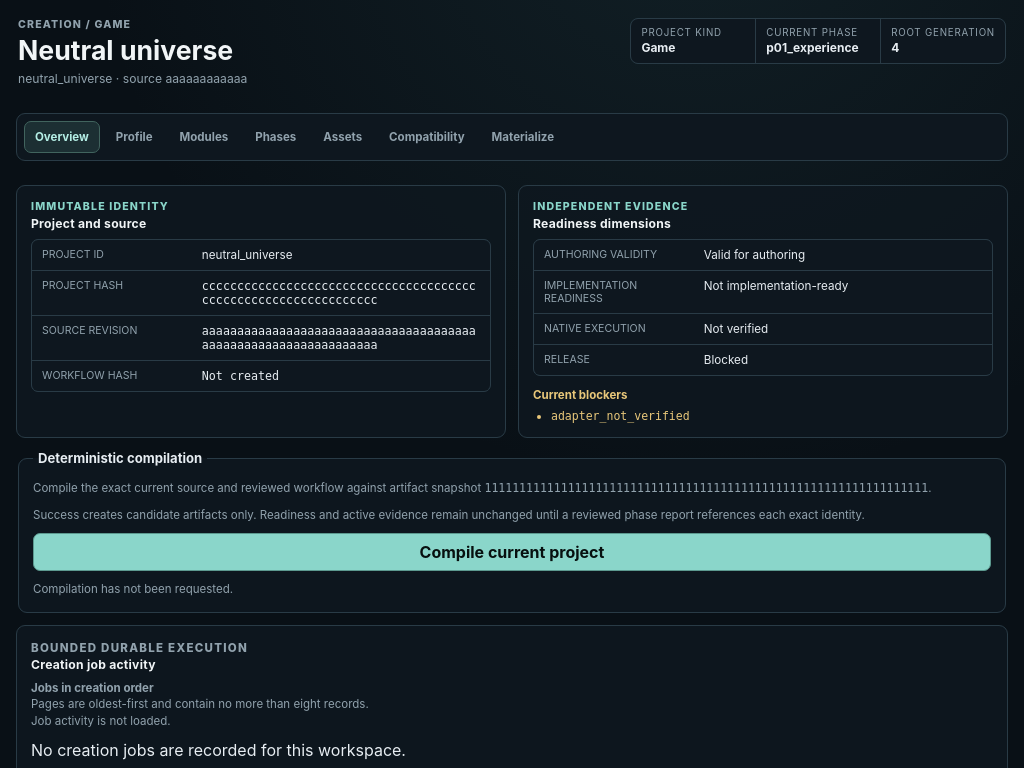
Test: CreationWorkspace › fails closed and focuses the contractual compilation error
Click the button "Compile current project" at (512, 552), box [33,533,991,571]
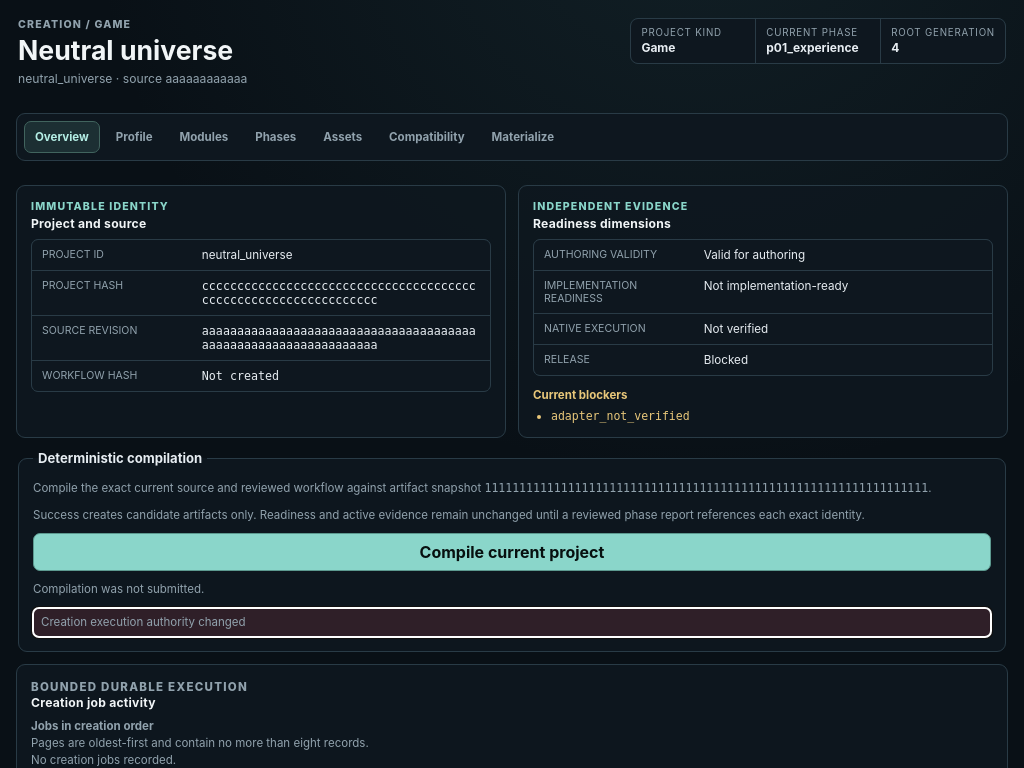
Expected: the message "Creation execution authority changed" is shown, [33,608,991,637]
Expected: the message named "Compilation status" shows "not submitted", [33,582,204,596]
